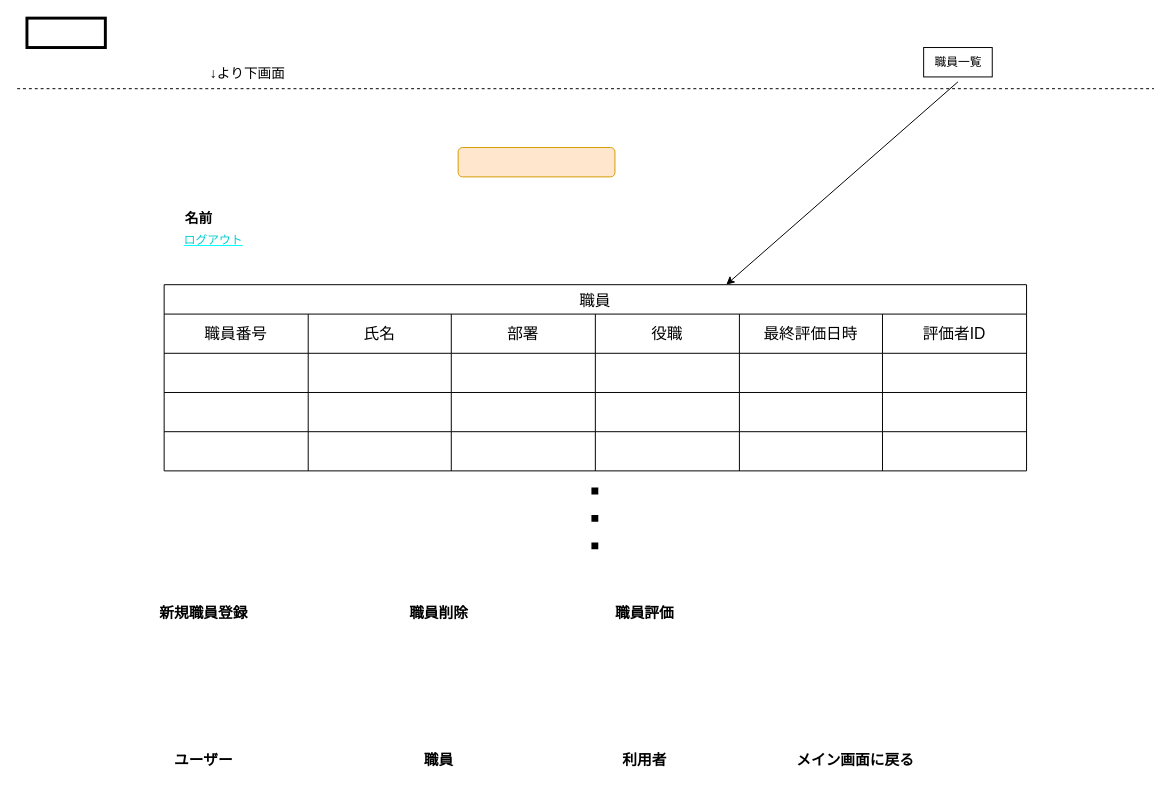
Some shapes in this 1172 by 792 pixel diagram are drawn without their labels. The centre of each missing label's shape, as x and y in pixels:
"staff.jsp" goes at (65,32).
"人事評価システム（仮）" goes at (536,162).
